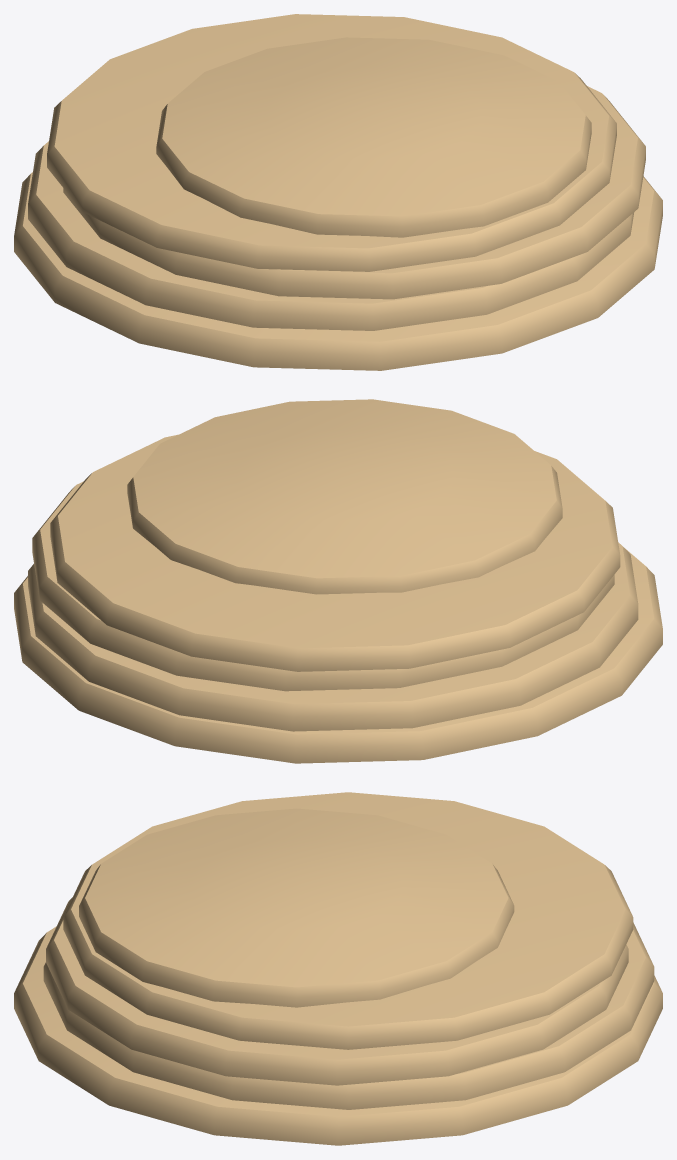
The model's file is pancakeDishPancakes.fbx.
3 renders of one model, top to bottom at view 1: azimuth 30°, elevation 25°; view 2: azimuth 150°, elevation 25°; view 3: azimuth 270°, elevation 25°, orthographic.
Visible parts, largest first — view 1: pancakes; view 2: pancakes; view 3: pancakes.
Boxes of the visible parts, box(x1,y1,x2,y2) form: pancakes: box(14, 14, 662, 370); pancakes: box(14, 399, 662, 763); pancakes: box(14, 792, 662, 1145).
Bounding box in the file's own units: 98.83 × 22.78 × 98.83.
